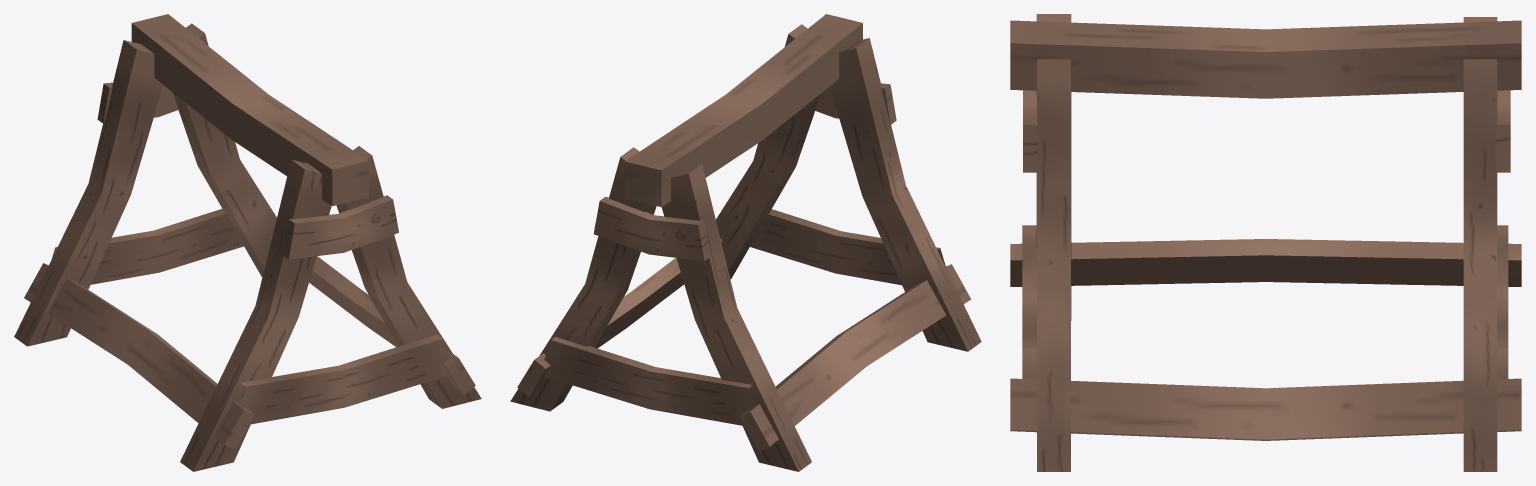
Rendered from swordRack_mesh.fbx.
3 renders of one model, left to right at view 1: azimuth 30°, elevation 25°; view 2: azimuth 150°, elevation 25°; view 3: azimuth 270°, elevation 25°, orthographic. The views are drawn at different scales.
Visible parts, largest first — view 1: polySurface122; view 2: polySurface122; view 3: polySurface122.
Part boxes in pixels (left/top/right/bottom): polySurface122: left=14, top=14, right=481, bottom=471; polySurface122: left=510, top=14, right=981, bottom=471; polySurface122: left=1010, top=14, right=1521, bottom=471.
Bounding box in the file's own units: 85.96 × 79.35 × 103.
